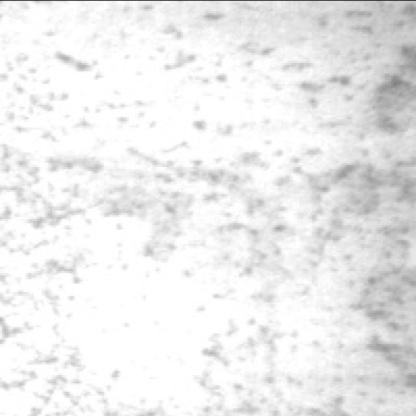pitted_surface: (2, 43, 385, 416), (156, 6, 416, 142), (326, 150, 416, 395)
